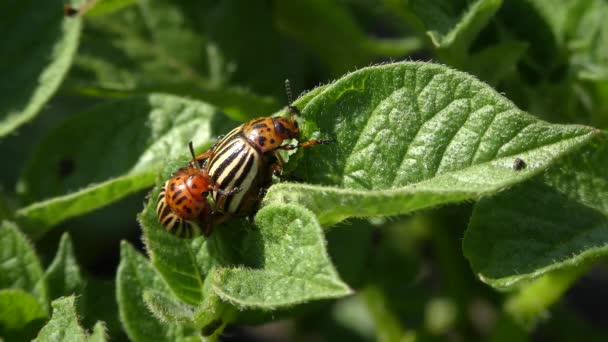hrosc: (206, 115, 288, 211), (135, 155, 214, 237)
